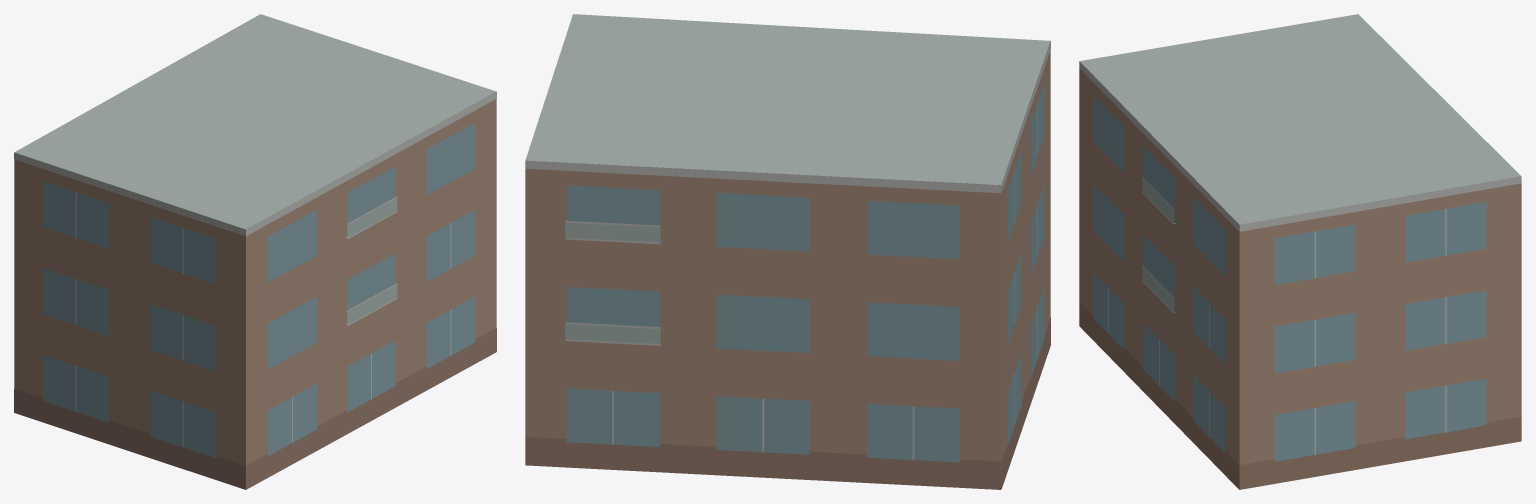
File: survey-upis-32720473.glb
3 views of the same model, side by side, from view 1: azimuth 30°, elevation 25°; view 2: azimuth 150°, elevation 25°; view 3: azimuth 270°, elevation 25° (orthographic). The views are drawn at different scales.
Parts seen in each view (by area): view 1: survey-upis-32720473.tmp; view 2: survey-upis-32720473.tmp; view 3: survey-upis-32720473.tmp.
Boxes of the visible parts, x1,y1,x2,y2 form: survey-upis-32720473.tmp: (14, 14, 496, 489); survey-upis-32720473.tmp: (525, 14, 1050, 489); survey-upis-32720473.tmp: (1079, 14, 1521, 489).
Size of the model in its own units: 15.62 by 9.15 by 13.84.
